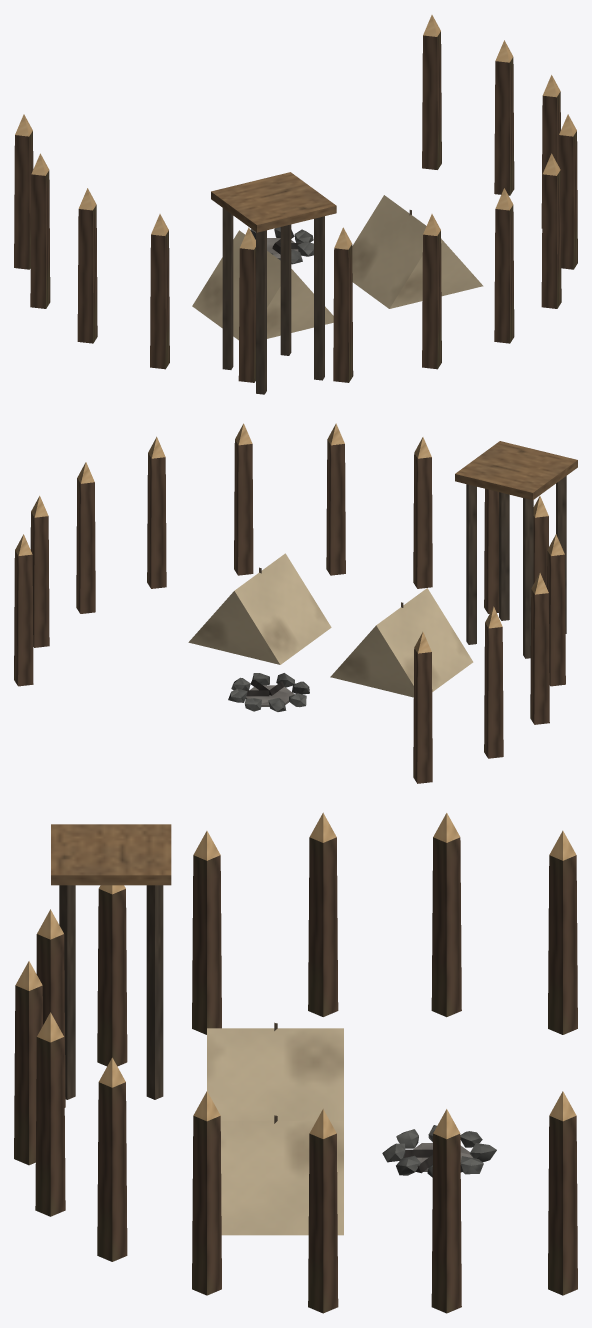
File: SM_POI_Outpost_LOD1.fbx
3 renders of one model, top to bottom at view 1: azimuth 30°, elevation 25°; view 2: azimuth 150°, elevation 25°; view 3: azimuth 270°, elevation 25°, orthographic. The views are drawn at different scales.
Parts seen in each view (by area): view 1: SM_POI_Outpost_LOD1; view 2: SM_POI_Outpost_LOD1; view 3: SM_POI_Outpost_LOD1.
Part boxes in pixels (x1=…): SM_POI_Outpost_LOD1: x1=14, y1=15, x2=577, y2=394; SM_POI_Outpost_LOD1: x1=14, y1=423, x2=577, y2=783; SM_POI_Outpost_LOD1: x1=14, y1=812, x2=577, y2=1313.
Bounding box in the file's own units: 26.71 × 9.36 × 20.6.
Materials: 1 (1 with a texture image).
